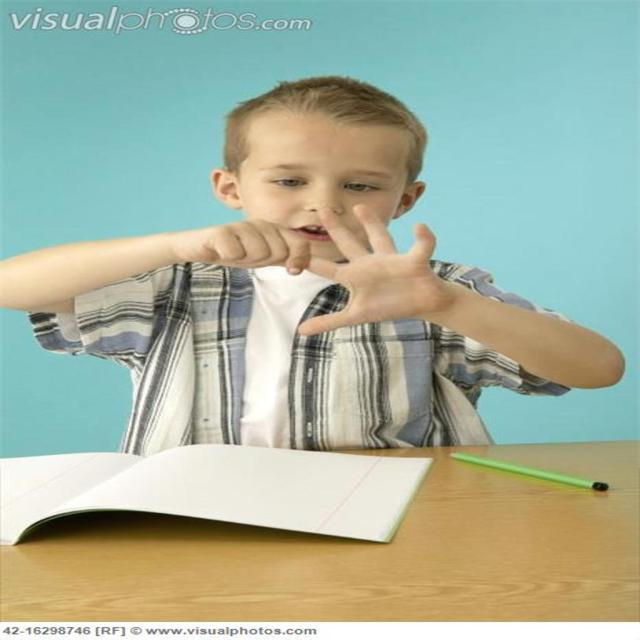Face: (225, 90, 416, 265)
